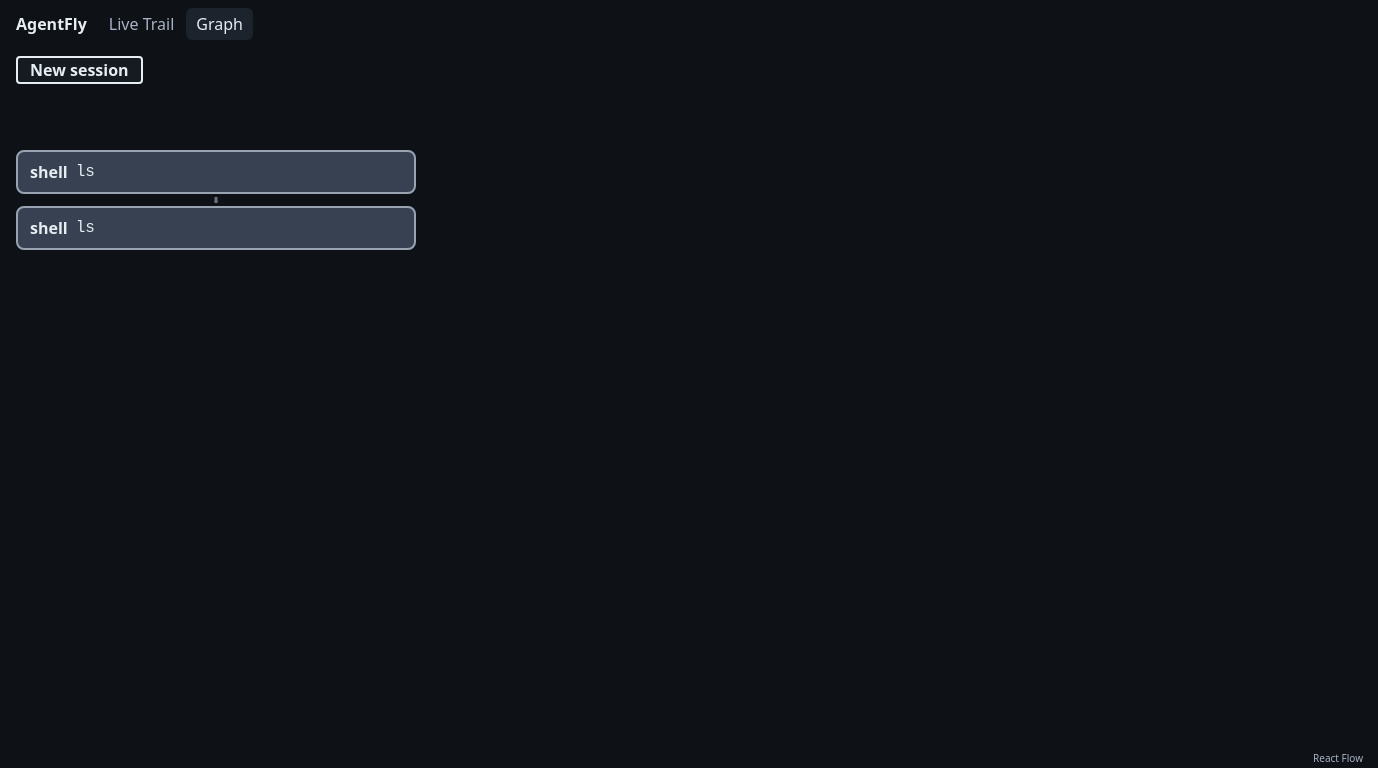
Test case: App › New session empties the graph and sends nothing; a reload keeps it empty
The width and height of the screenshot is (1378, 768).
Expected: the text "shell" is shown 2 times, x1=30 y1=160 x2=68 y2=184; x1=30 y1=216 x2=68 y2=240
Click the button "New session" at coordinates (79, 70), box x1=16 y1=56 x2=143 y2=84
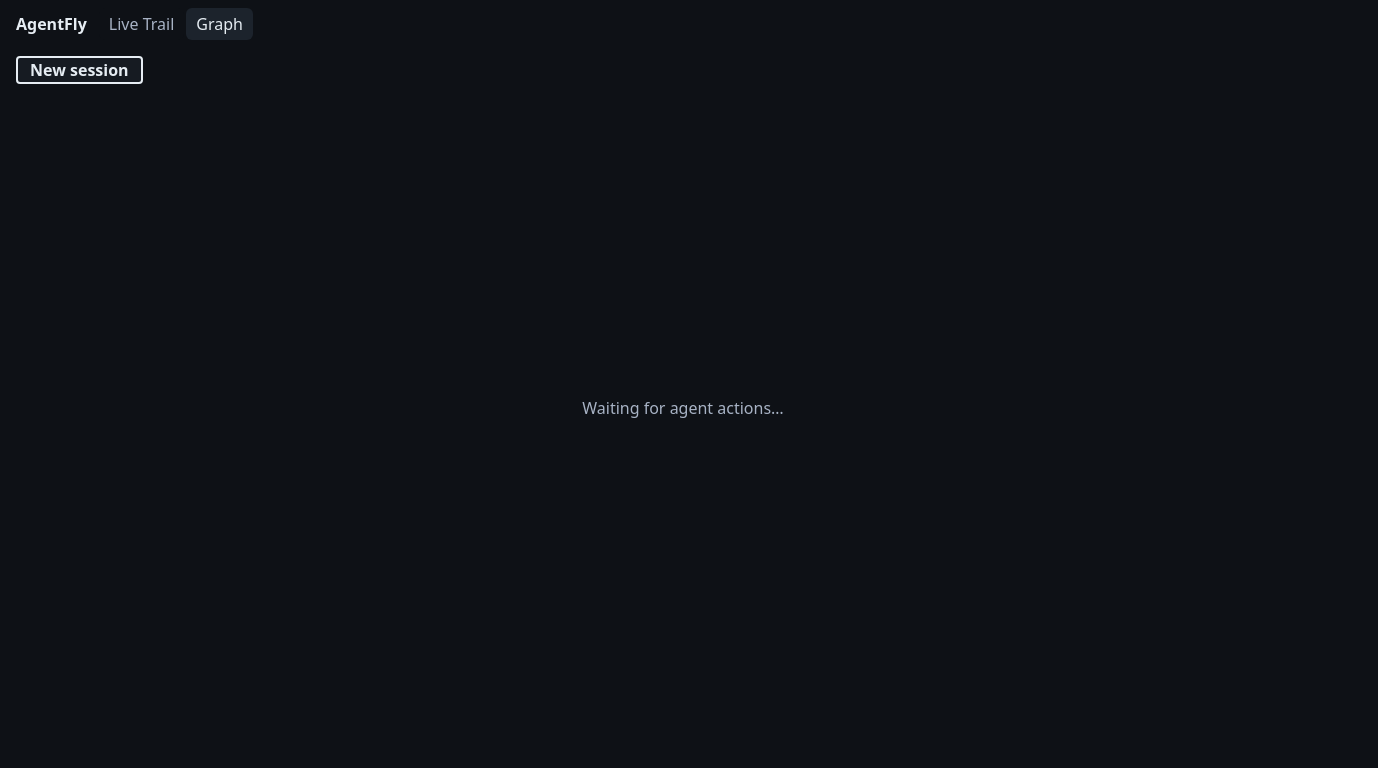
Expected: the text "shell" is not shown
Expected: the text "Waiting for agent actions…" is shown
